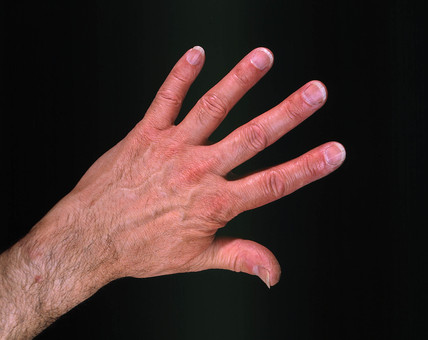finger: (197, 80, 332, 174), (171, 45, 282, 137), (214, 141, 345, 215), (137, 47, 210, 126)
